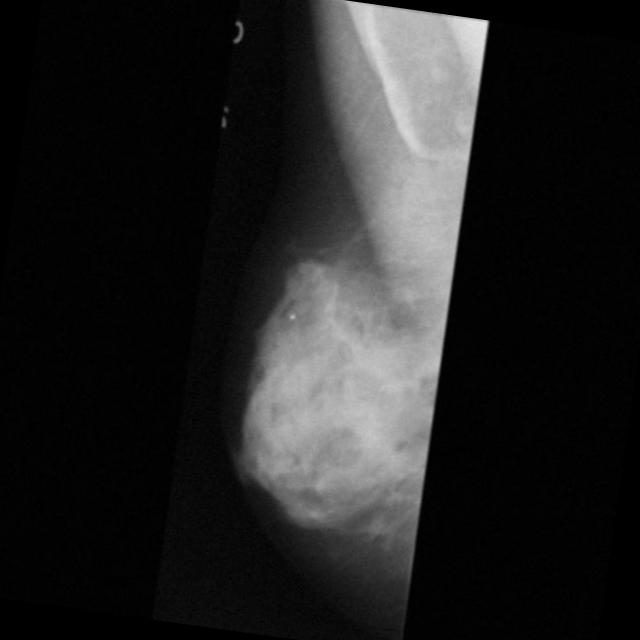CALC: (304, 320, 345, 360)
